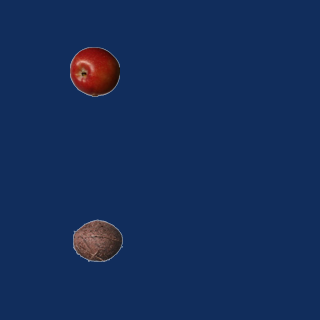Apple Braeburn: (69, 46, 119, 96)
Cocos: (72, 215, 122, 265)
